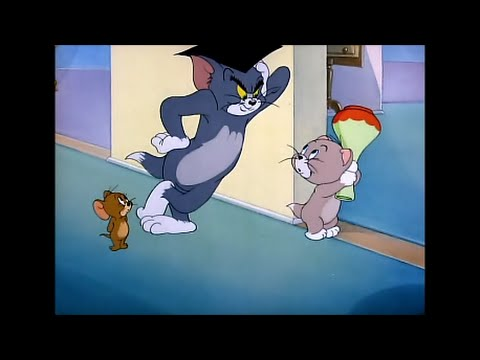tom: (122, 52, 292, 240)
